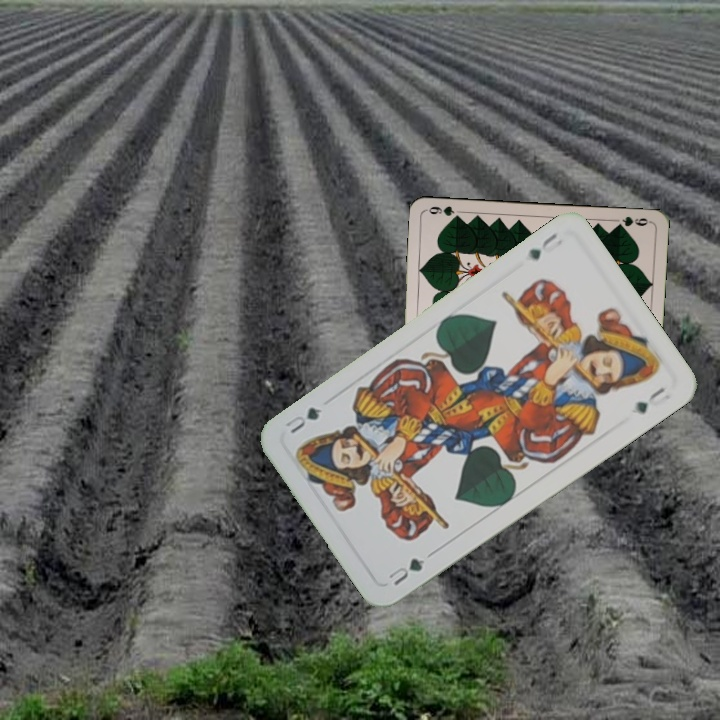G9: (612, 212, 653, 230)
GU: (384, 554, 428, 589), (524, 228, 565, 263)
